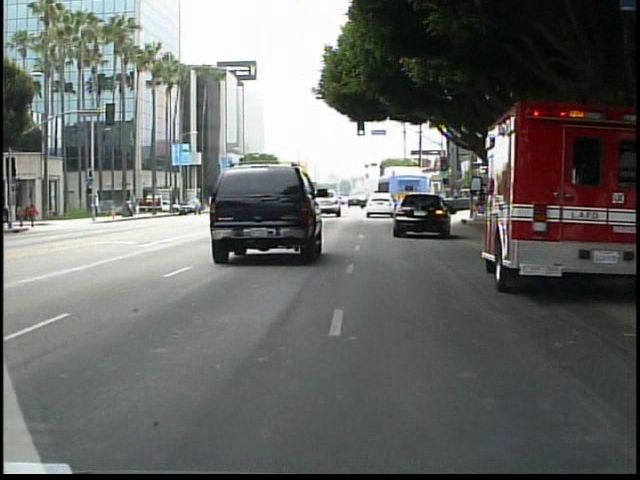person: (14, 201, 28, 229), (28, 200, 41, 230)
